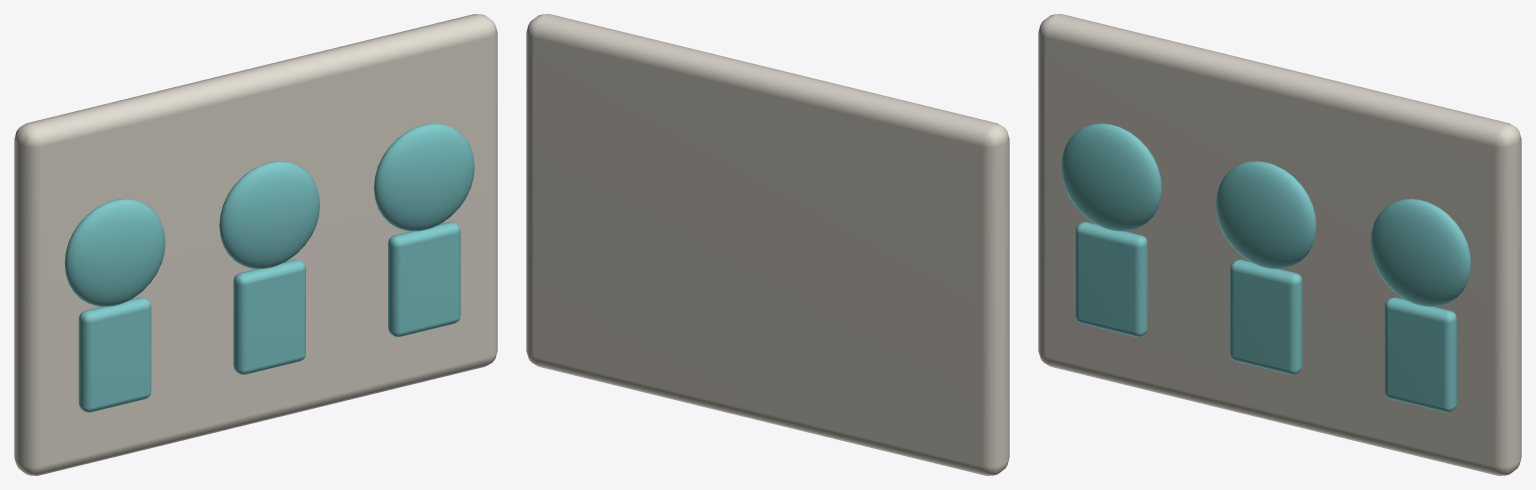
File: Documents.fbx
3 renders of one model, left to right at view 1: azimuth 30°, elevation 25°; view 2: azimuth 150°, elevation 25°; view 3: azimuth 330°, elevation 25°, orthographic.
Visible parts, largest first — view 1: Documents, FamilyIcon, FamilyIcon.002, FamilyIcon.001, FamilyBody, FamilyBody.001, FamilyBody.002; view 2: Documents; view 3: Documents, FamilyIcon.002, FamilyIcon, FamilyIcon.001, FamilyBody.002, FamilyBody.001, FamilyBody.
Part boxes in pixels (x1=…): Documents: x1=14, y1=14, x2=497, y2=475; FamilyIcon: x1=64, y1=199, x2=165, y2=306; FamilyIcon.002: x1=374, y1=123, x2=474, y2=231; FamilyIcon.001: x1=219, y1=161, x2=319, y2=268; FamilyBody: x1=78, y1=297, x2=151, y2=412; FamilyBody.001: x1=233, y1=259, x2=305, y2=374; FamilyBody.002: x1=388, y1=222, x2=460, y2=336; Documents: x1=526, y1=14, x2=1009, y2=475; Documents: x1=1038, y1=14, x2=1521, y2=475; FamilyIcon.002: x1=1370, y1=199, x2=1471, y2=306; FamilyIcon: x1=1061, y1=123, x2=1161, y2=231; FamilyIcon.001: x1=1216, y1=161, x2=1316, y2=268; FamilyBody.002: x1=1384, y1=297, x2=1457, y2=412; FamilyBody.001: x1=1230, y1=259, x2=1302, y2=374; FamilyBody: x1=1075, y1=222, x2=1147, y2=336.
Size of the model in its own units: 20 by 14 by 2.3.
